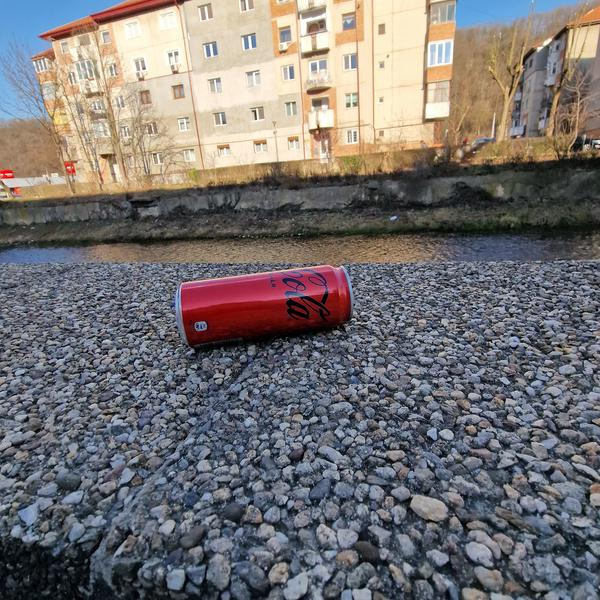can: (172, 262, 358, 350)
